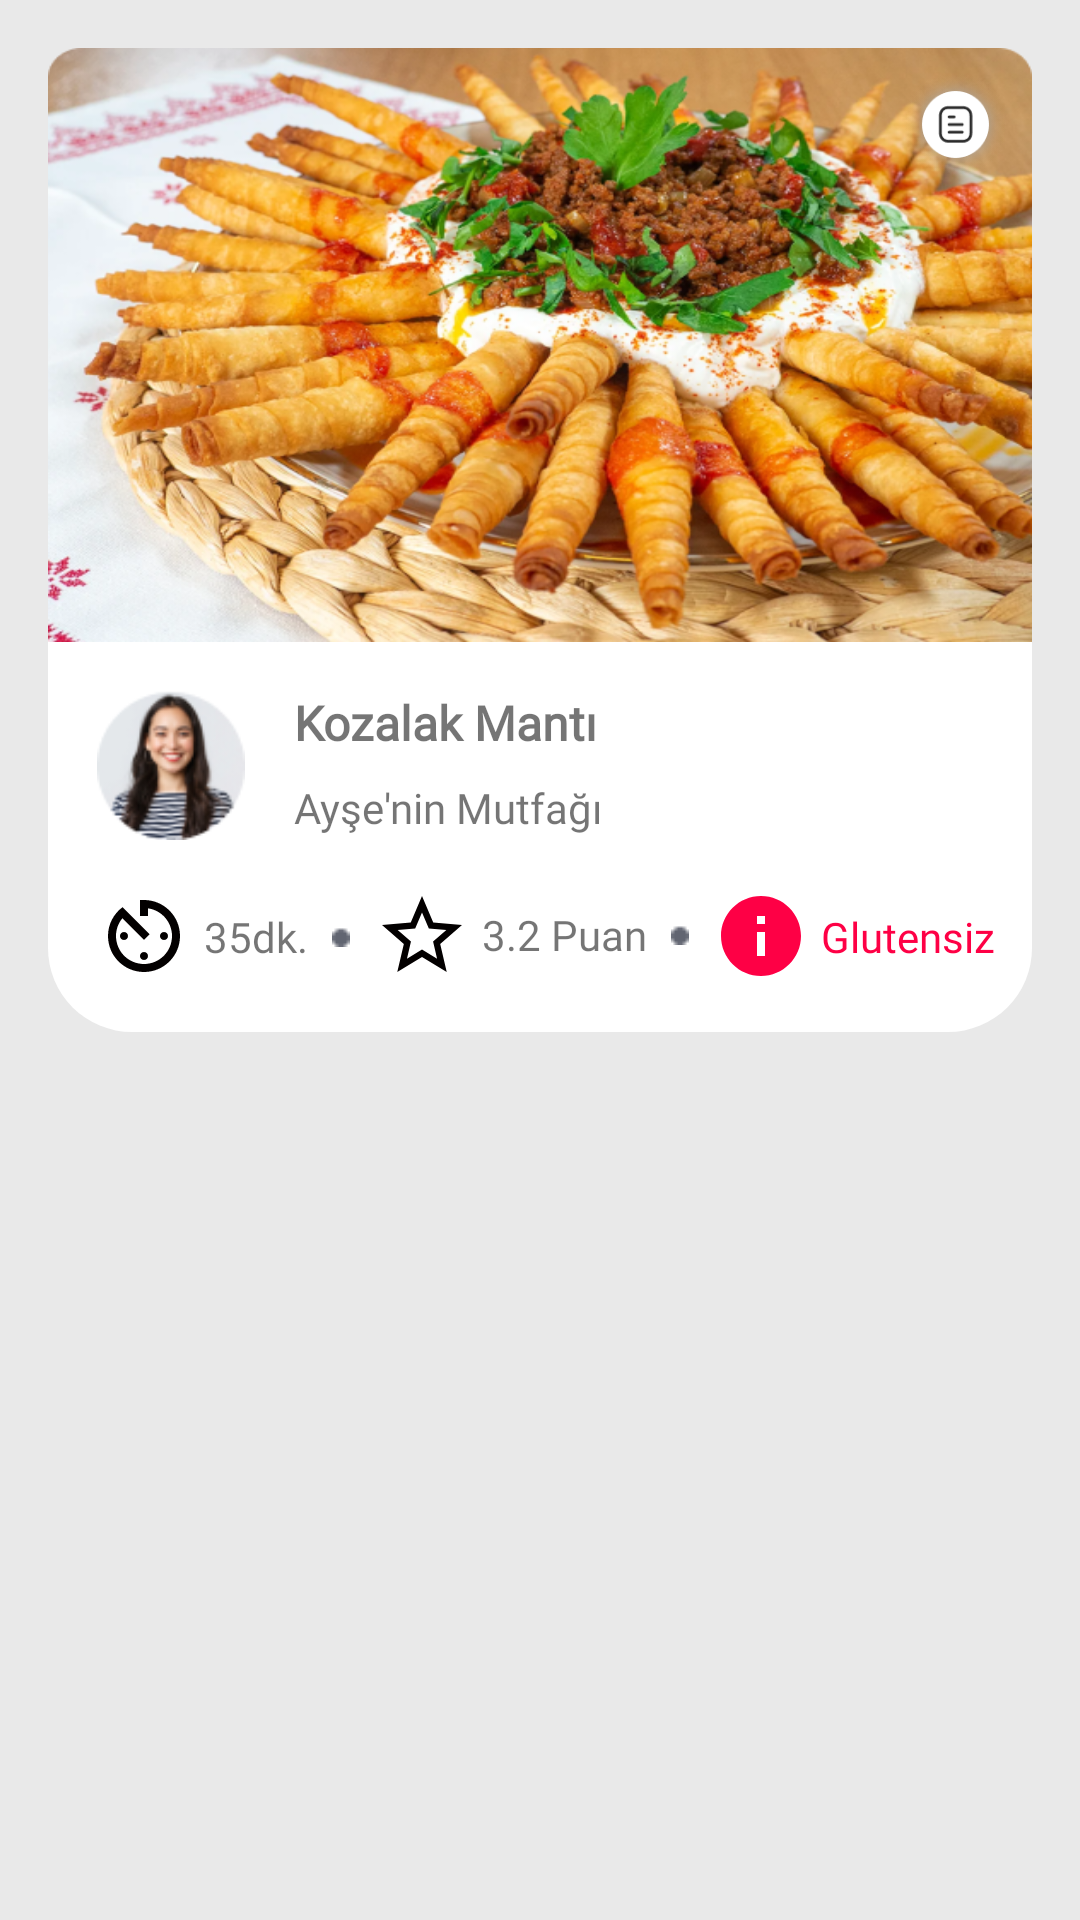

Icons on this 1080px x 1920px Android screen, each with its box as {"left": x1, "top": y1, "right": x2, "bottom": y2}:
av timer: {"left": 108, "top": 900, "right": 180, "bottom": 972}
info: {"left": 721, "top": 896, "right": 801, "bottom": 976}
star: {"left": 382, "top": 896, "right": 462, "bottom": 972}
